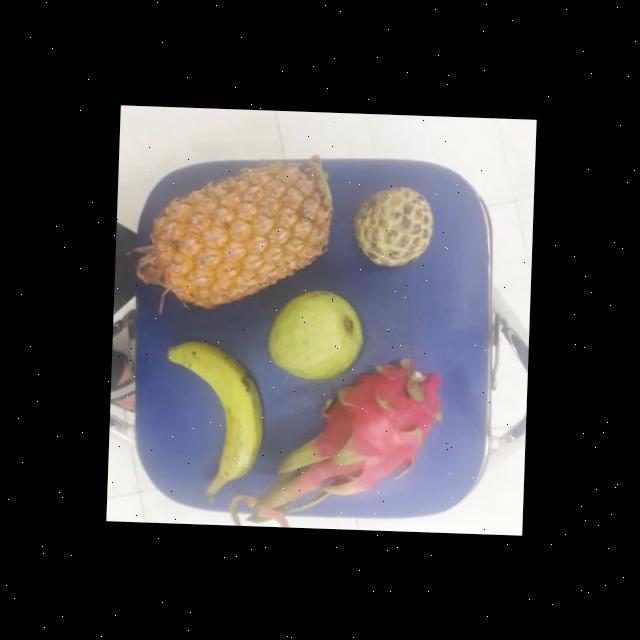Sakya fruit: (354, 184, 434, 272)
banana: (160, 334, 268, 486)
guava: (268, 288, 365, 386)
pineapple: (134, 158, 333, 316)
pitaya: (312, 357, 442, 498)
